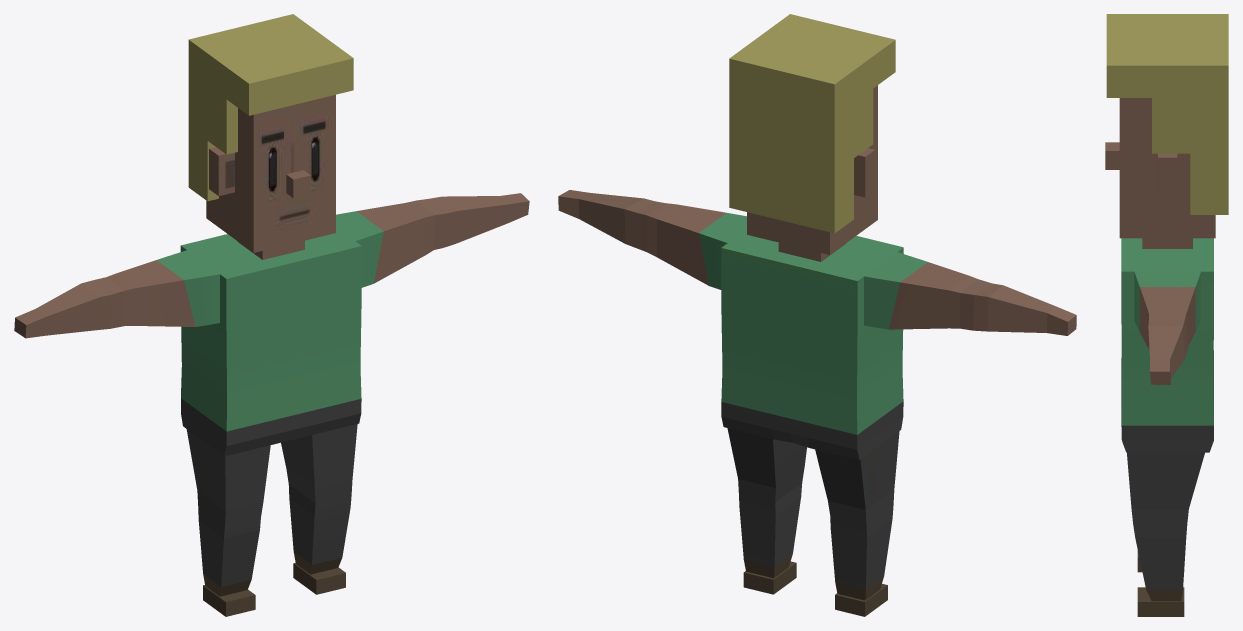
File: Citizen Man Green Shirt.glb
The picture shows the model from 3 angles, left to right: view 1: azimuth 30°, elevation 25°; view 2: azimuth 150°, elevation 25°; view 3: azimuth 270°, elevation 25°; orthographic projection.
Parts seen in each view (by area): view 1: Citizen Man, Citizen Man Hair; view 2: Citizen Man, Citizen Man Hair; view 3: Citizen Man, Citizen Man Hair.
Part boxes in pixels (x1,y1,x2,y2): Citizen Man: [14, 94, 529, 616]; Citizen Man Hair: [188, 14, 353, 201]; Citizen Man: [558, 85, 1076, 616]; Citizen Man Hair: [729, 14, 895, 233]; Citizen Man: [1105, 98, 1215, 616]; Citizen Man Hair: [1106, 14, 1228, 214].
Bounding box in the file's own units: 0.7147 × 0.7323 × 0.1497.
1 material, 1 textured.
